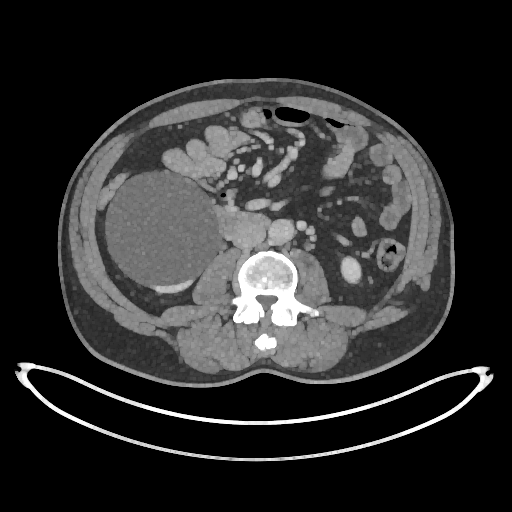Lesion: (106, 174, 222, 286)
